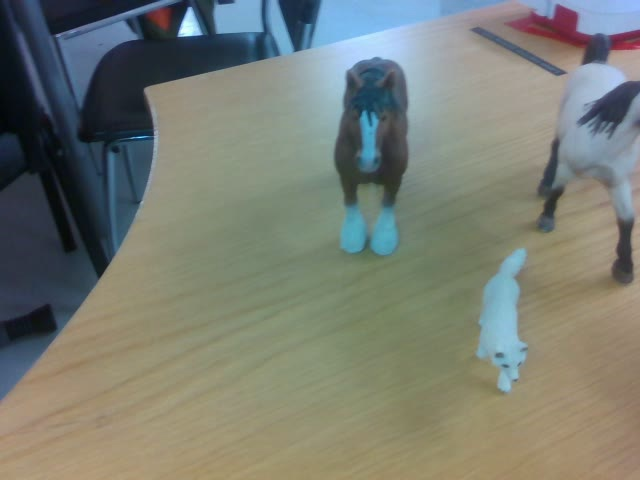toy: (334, 54, 411, 255), (475, 249, 525, 393)
